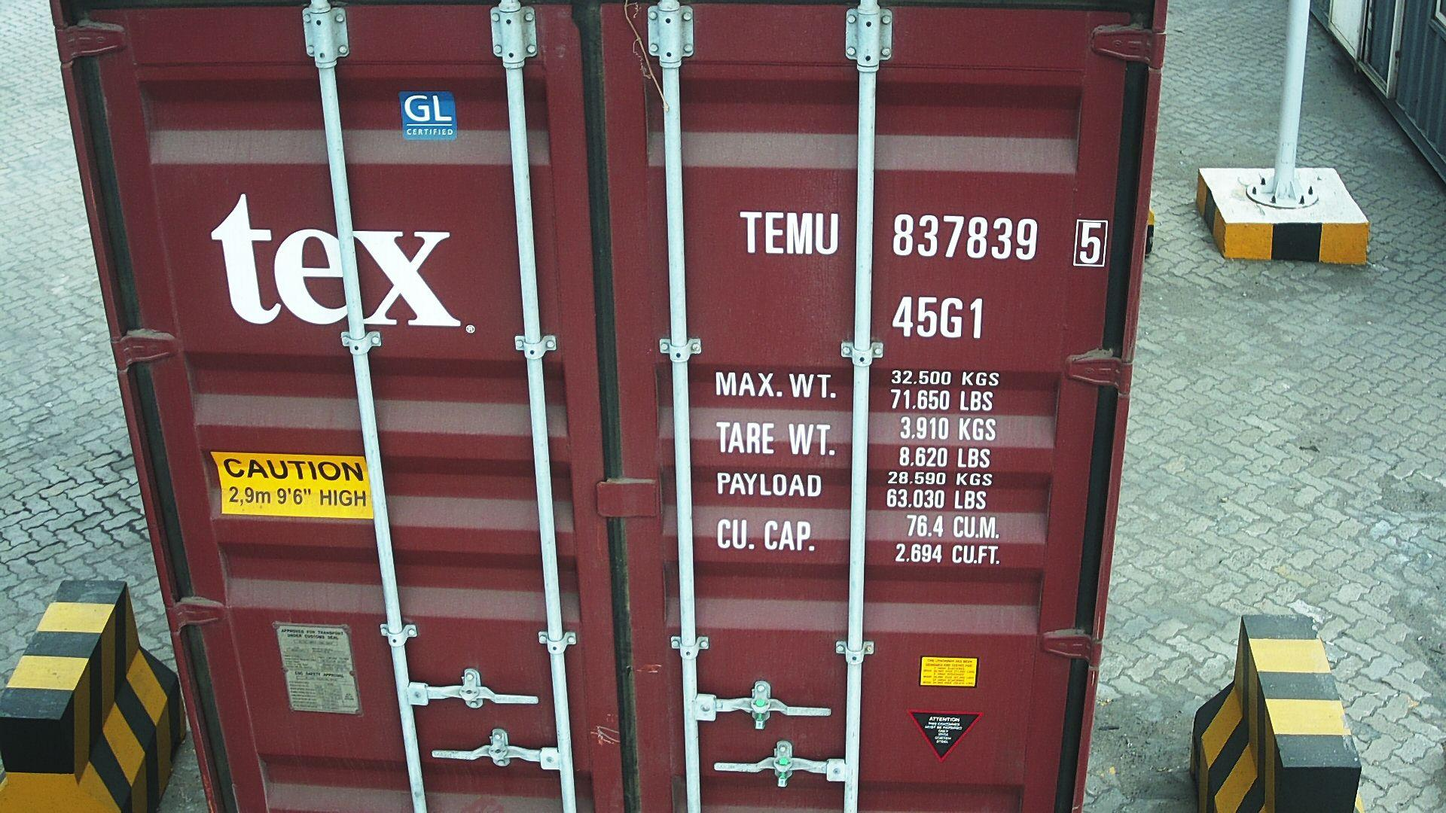container-numbers: (735, 209, 1115, 271), (889, 292, 989, 343)
